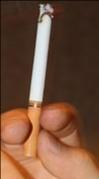Cigarette: (24, 4, 54, 156)
